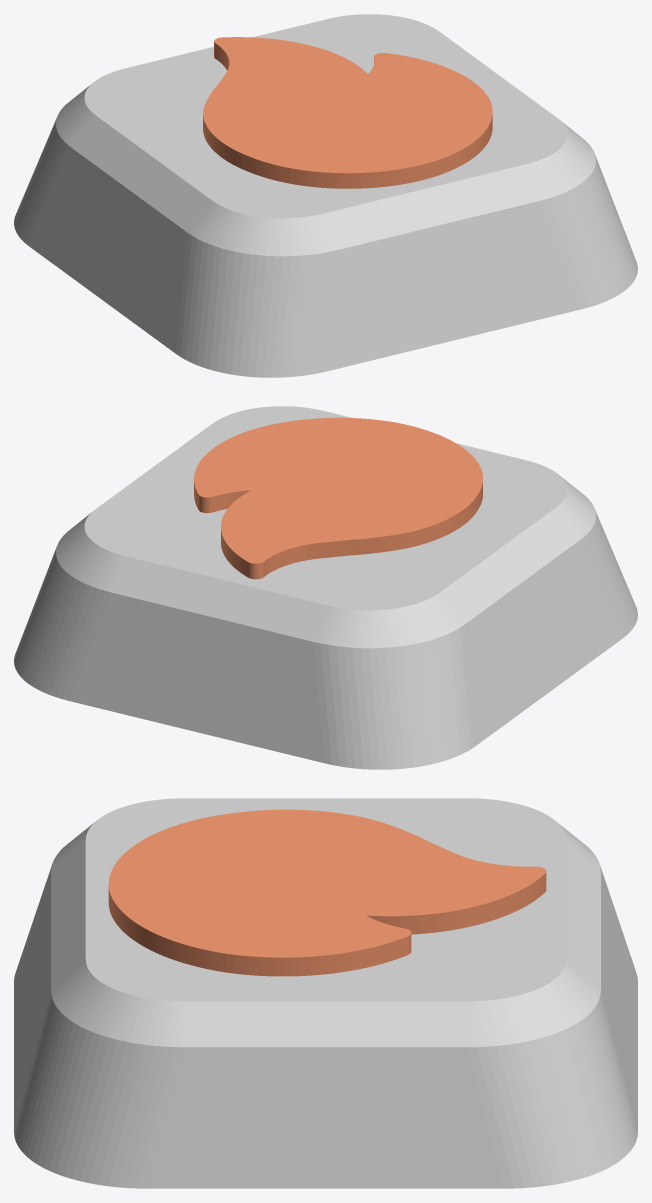
The model's file is cap-fire.glb.
The picture shows the model from 3 angles, top to bottom: view 1: azimuth 30°, elevation 25°; view 2: azimuth 150°, elevation 25°; view 3: azimuth 270°, elevation 25°; orthographic projection. The views are drawn at different scales.
Parts seen in each view (by area): view 1: cap_0, glyph_1; view 2: cap_0, glyph_1; view 3: cap_0, glyph_1.
Boxes of the visible parts, box(x1,y1,x2,y2) form: cap_0: box(14, 14, 637, 377); glyph_1: box(203, 37, 492, 188); cap_0: box(14, 406, 637, 769); glyph_1: box(194, 417, 482, 579); cap_0: box(14, 798, 637, 1188); glyph_1: box(108, 809, 546, 976).
Bounding box in the file's own units: 18 × 5.6 × 18.
